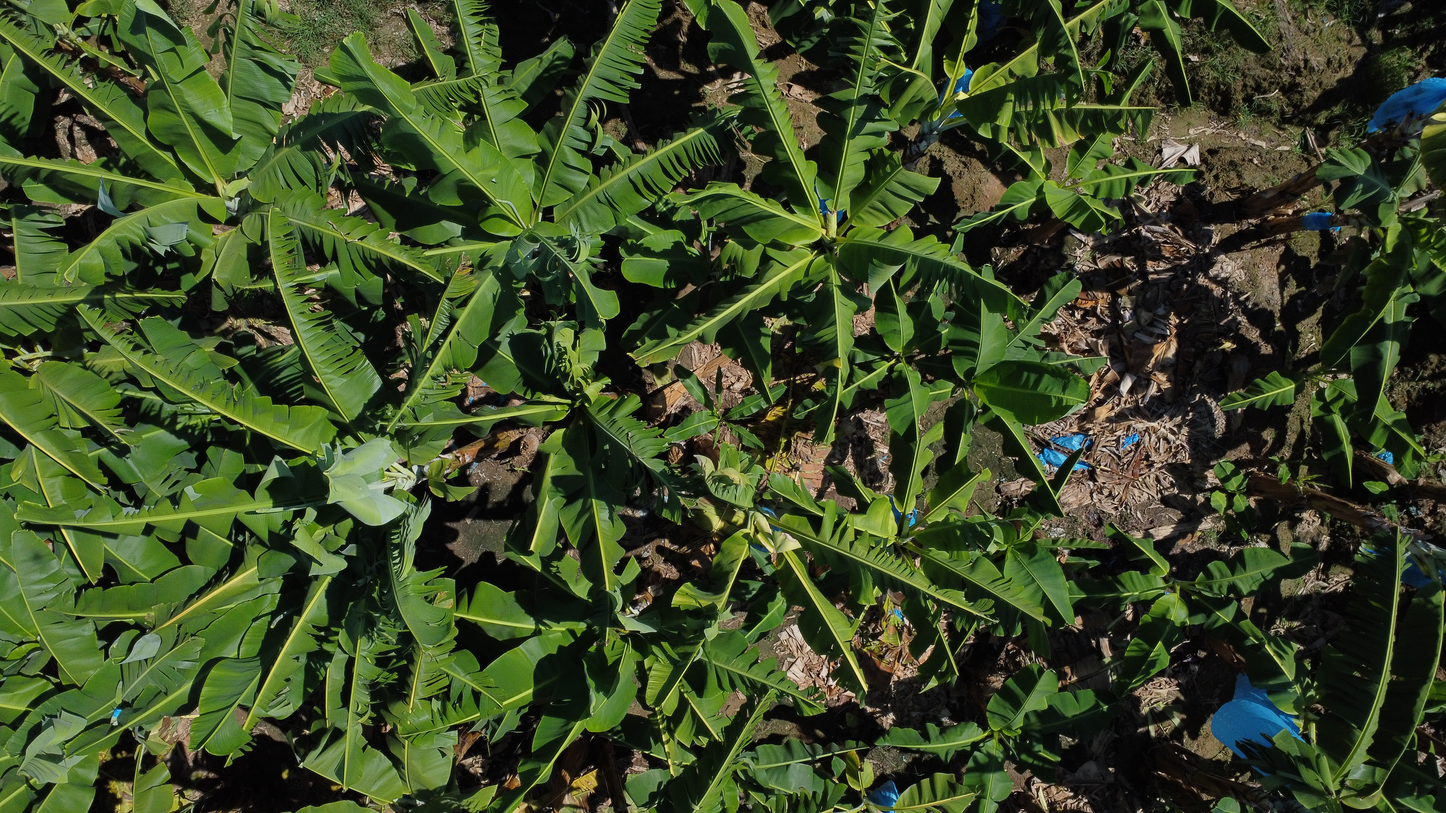panama: (740, 386, 827, 479), (517, 764, 606, 807)
